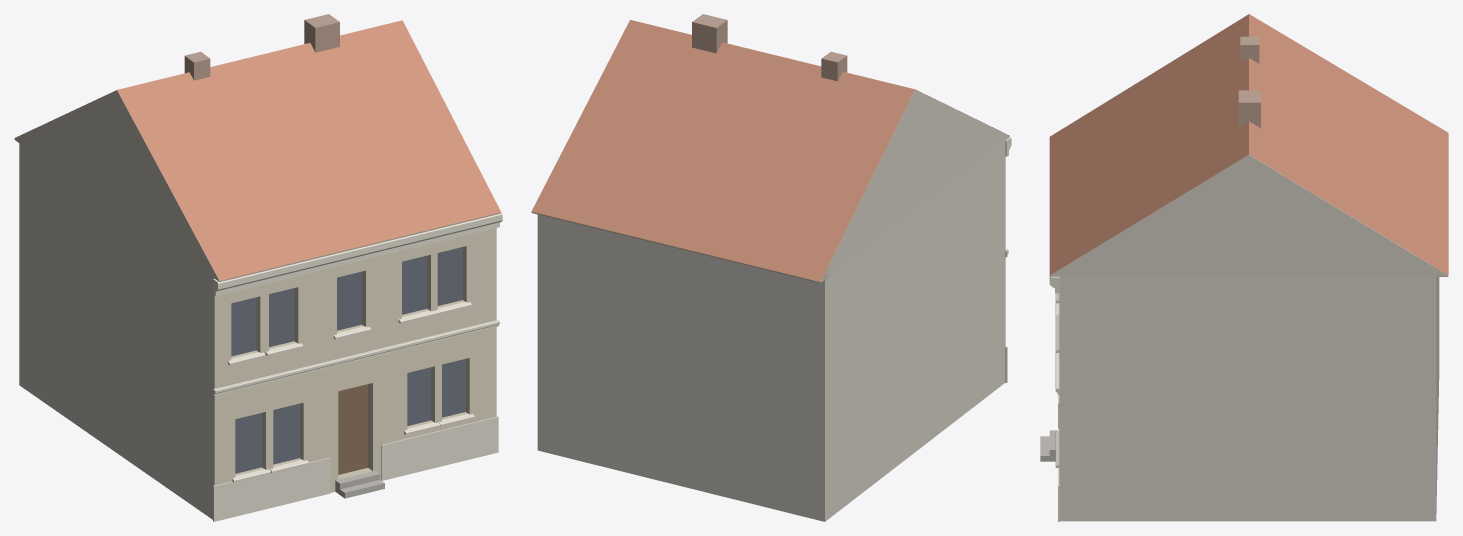
The picture shows the model from 3 angles, left to right: view 1: azimuth 30°, elevation 25°; view 2: azimuth 150°, elevation 25°; view 3: azimuth 270°, elevation 25°; orthographic projection.
Visible parts, largest first — view 1: CP_659_Masonry, CP_659_Roof, CP_659_Gable_L_gable, CP_659_Cornice_plinth_1, CP_659_Cornice_plinth_0, CP_659_Cornice_main_0, CP_659_Cornice_string_0, CP_659_Chimney_1, CP_659_Chimney_0; view 2: CP_659_Masonry, CP_659_Roof, CP_659_Gable_L_gable, CP_659_Chimney_1, CP_659_Chimney_0, CP_659_Roof_EaveClosure_1; view 3: CP_659_Masonry, CP_659_Roof, CP_659_Gable_R_gable, CP_659_Chimney_1, CP_659_Chimney_0.
Part boxes in pixels (left/top/right/bottom): CP_659_Masonry: left=19, top=142, right=496, bottom=519; CP_659_Roof: left=15, top=20, right=500, bottom=280; CP_659_Gable_L_gable: left=14, top=90, right=227, bottom=281; CP_659_Cornice_plinth_1: left=381, top=416, right=498, bottom=480; CP_659_Cornice_plinth_0: left=213, top=457, right=330, bottom=521; CP_659_Cornice_main_0: left=213, top=212, right=502, bottom=296; CP_659_Cornice_string_0: left=213, top=319, right=499, bottom=395; CP_659_Chimney_1: left=304, top=14, right=339, bottom=52; CP_659_Chimney_0: left=184, top=51, right=210, bottom=80; CP_659_Masonry: left=537, top=140, right=1005, bottom=521; CP_659_Roof: left=531, top=20, right=1009, bottom=281; CP_659_Gable_L_gable: left=812, top=89, right=1009, bottom=282; CP_659_Chimney_1: left=692, top=14, right=727, bottom=53; CP_659_Chimney_0: left=821, top=51, right=847, bottom=81; CP_659_Roof_EaveClosure_1: left=531, top=212, right=829, bottom=283; CP_659_Masonry: left=1059, top=275, right=1439, bottom=521; CP_659_Roof: left=1049, top=14, right=1448, bottom=274; CP_659_Gable_R_gable: left=1050, top=155, right=1448, bottom=276; CP_659_Chimney_1: left=1238, top=90, right=1260, bottom=127; CP_659_Chimney_0: left=1240, top=36, right=1259, bottom=63.
Size of the model in its own units: 10.68 by 13.4 by 12.87.
